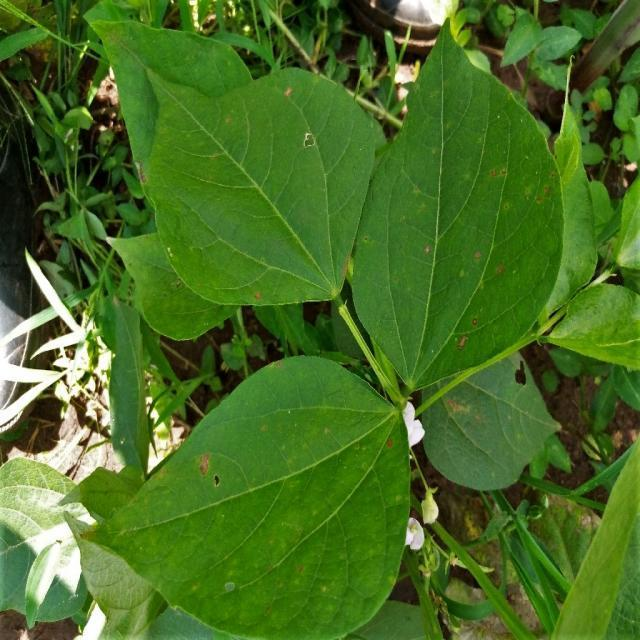hawar: (421, 99, 552, 357), (175, 448, 230, 512), (276, 117, 335, 169)
sehat: (255, 413, 383, 586), (150, 71, 256, 228)
